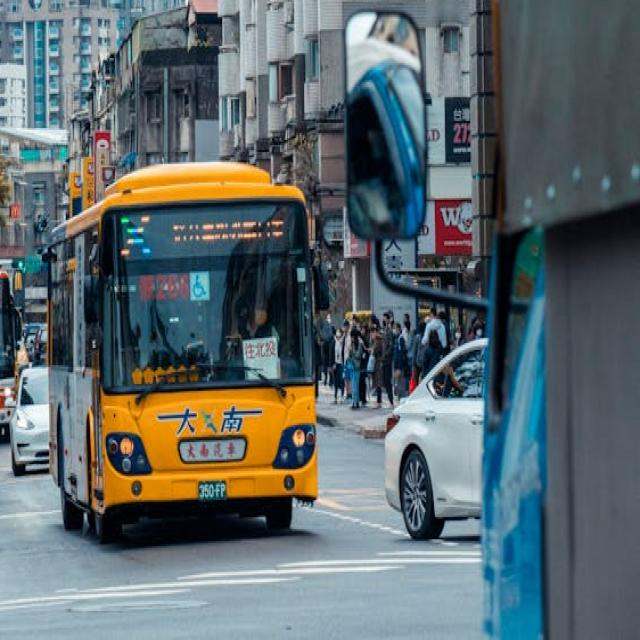bus: (47, 161, 322, 544), (0, 258, 22, 447)
car: (382, 336, 487, 540), (5, 363, 51, 473)
